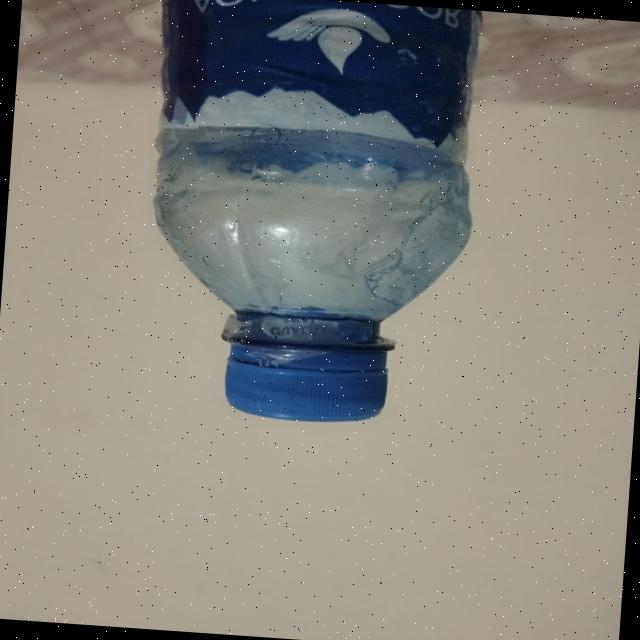cap: (220, 343, 392, 426)
label: (158, 0, 482, 150)
